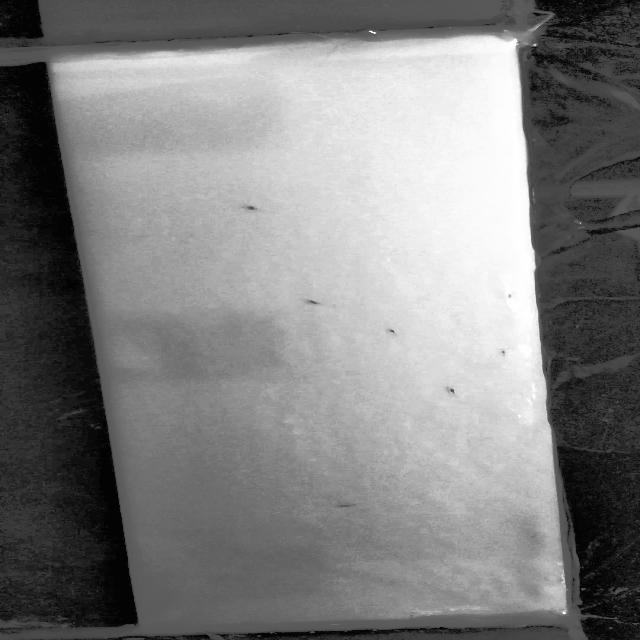shrimp: (294, 294, 326, 310), (236, 201, 268, 216), (437, 381, 463, 399), (327, 500, 365, 510), (376, 325, 402, 336)
